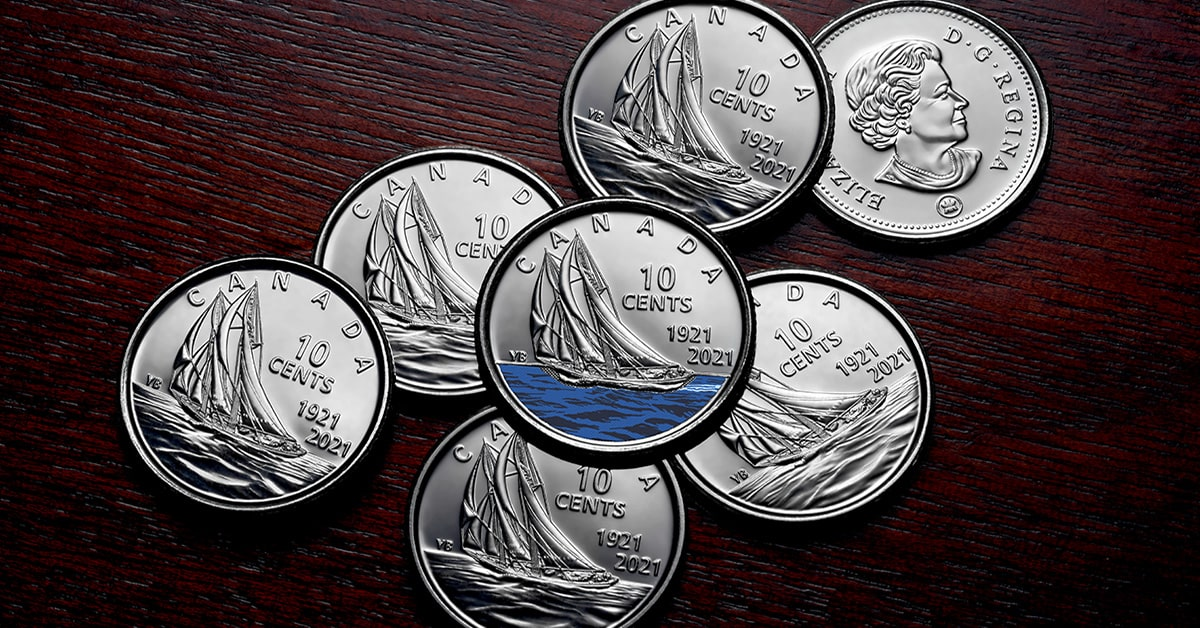coin: (478, 198, 753, 464), (120, 257, 390, 510), (676, 270, 932, 521), (560, 0, 831, 231), (314, 148, 560, 394), (408, 409, 683, 625), (814, 0, 1049, 240)
